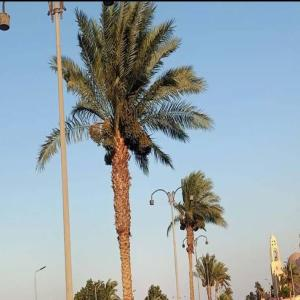palm tree: (46, 1, 216, 298), (167, 168, 228, 298)
